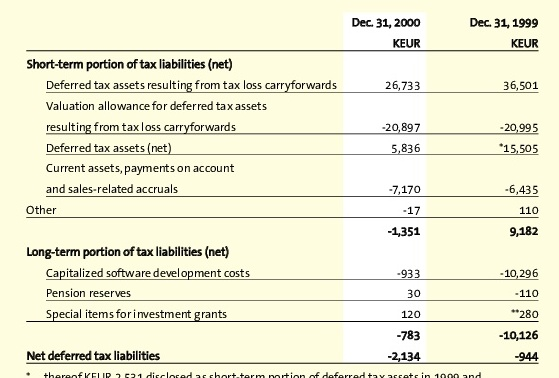table: (0, 0, 559, 378)
